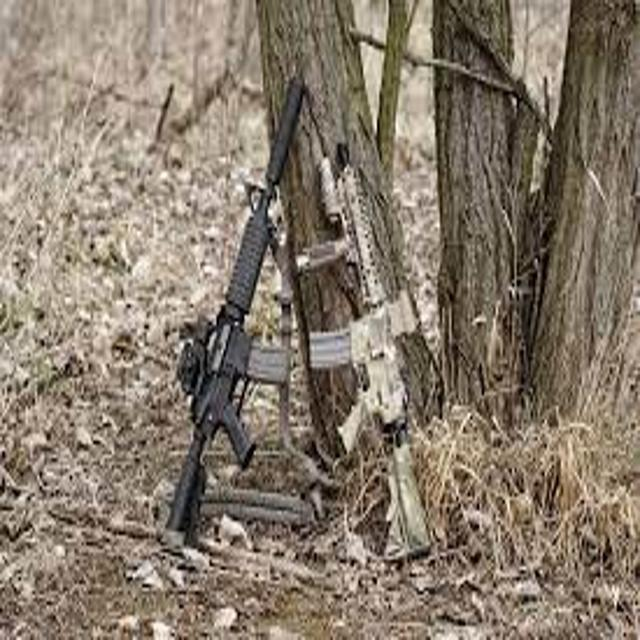gun: (132, 56, 354, 580), (267, 112, 483, 591)
